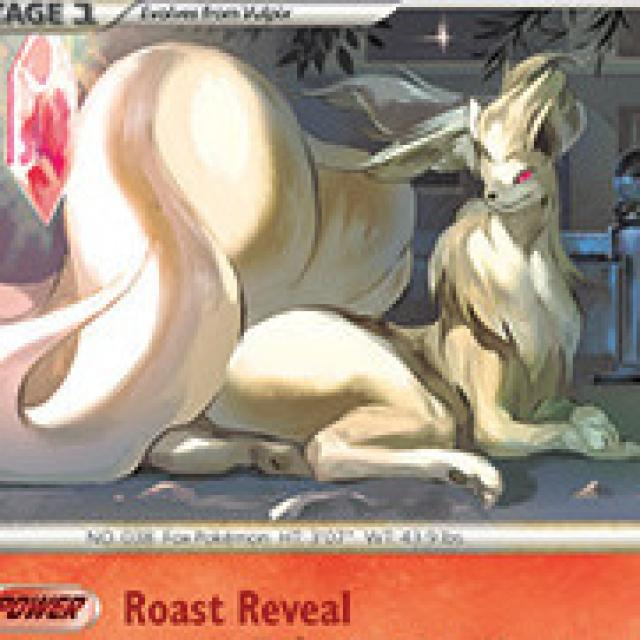Ninetales: (65, 50, 582, 474)
